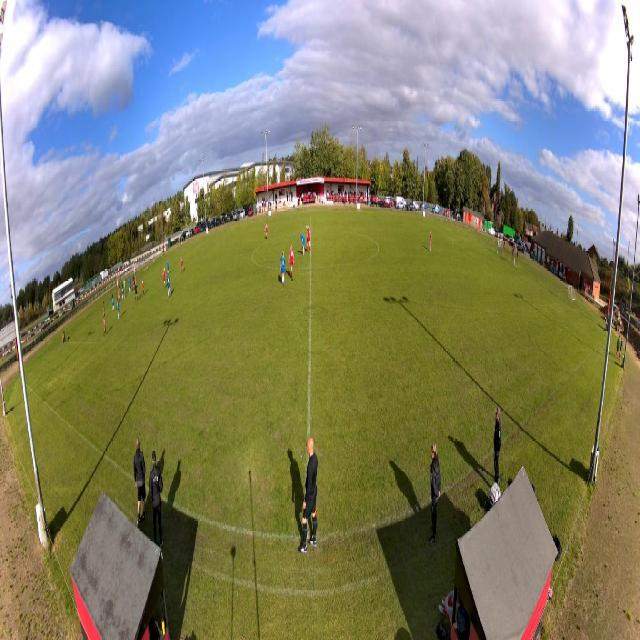ball: (182, 229, 183, 233)
player: (288, 243, 295, 280), (299, 231, 306, 258), (305, 223, 311, 254), (280, 251, 285, 287), (167, 272, 171, 299), (162, 267, 166, 291), (117, 297, 121, 321), (103, 314, 107, 336), (134, 283, 138, 303), (264, 221, 268, 240), (141, 277, 145, 296), (111, 294, 115, 313), (429, 228, 432, 252), (121, 283, 125, 301), (118, 286, 122, 303), (180, 255, 183, 274), (103, 300, 106, 319), (129, 278, 132, 296), (167, 259, 170, 276), (123, 278, 126, 295), (128, 276, 131, 286), (133, 279, 135, 291)
